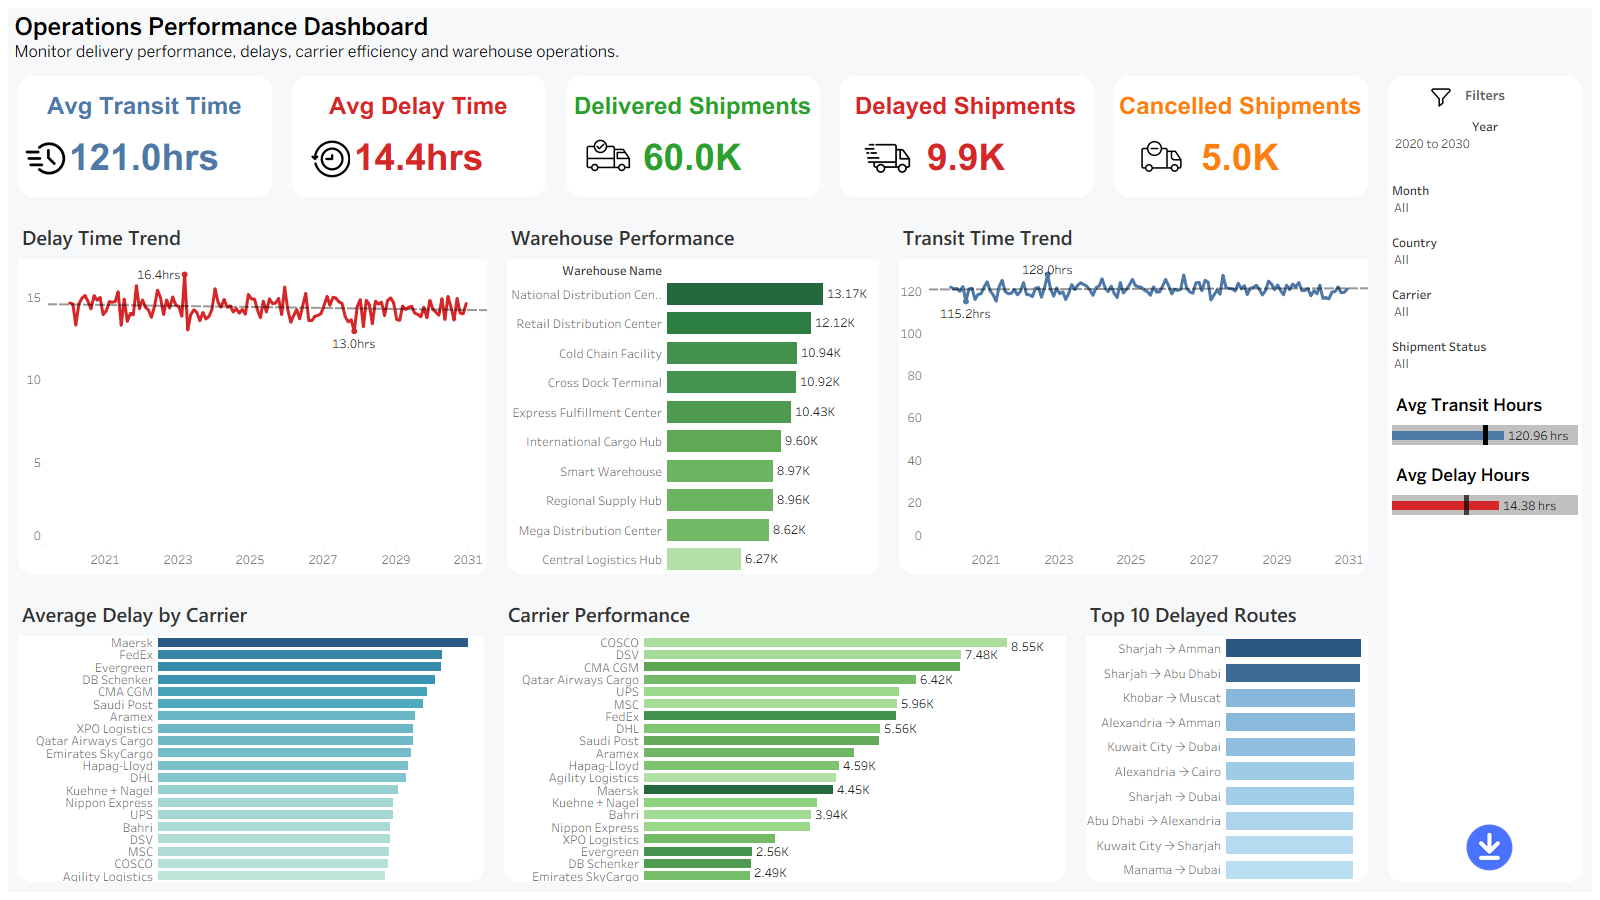

This screenshot's page, from the dashboard's own definition file:
{"tool":"tableau","page":{"name":"Operations Performance Dashboard","canvas":[1600,900],"ordinal":4},"visuals":[{"type":"title","box":[8,8,1584,56]},{"type":"worksheet","title":"KPI - Average Transit Time","mark":"Text","box":[8,64,274,141]},{"type":"worksheet","title":"KPI - Average Delay","mark":"Automatic","box":[282,64,274,141]},{"type":"worksheet","title":"KPI - Delivered Shipments","mark":"Automatic","box":[556,64,274,141]},{"type":"worksheet","title":"KPI - Delayed Shipments","mark":"Automatic","box":[830,64,274,141]},{"type":"worksheet","title":"KPI - Cancelled Shipments","mark":"Automatic","box":[1104,64,274,141]},{"type":"text","box":[1388,74,194,37]},{"type":"image","param":"Image/filter.png","box":[1427,81,27,23]},{"type":"filter","title":"Transit Time Trend","param":"[federated.0jvln5y0i2vktg16s0ugy1m90pce].[none:year_number:qk]","box":[1388,111,194,64]},{"type":"image","param":"Image/delivery-truck.png","box":[851,131,72,53]},{"type":"image","param":"Image/delete.png","box":[1131,133,61,46]},{"type":"image","param":"Image/delivery-truck(1).png","box":[577,134,64,48]},{"type":"image","param":"Image/rush.png","box":[23,136,44,44]},{"type":"image","param":"Image/delay.png","box":[309,139,43,39]},{"type":"filter","title":"Transit Time Trend","param":"[federated.0jvln5y0i2vktg16s0ugy1m90pce].[none:month_name:nk]","box":[1388,175,194,52]},{"type":"worksheet","title":"Delay Time Trend","mark":"Automatic","rows":["delay_hours"],"cols":["full_date"],"box":[8,205,489,377]},{"type":"worksheet","title":"Warehouse Performance","mark":"Automatic","rows":["warehouse_name"],"cols":["shipment_key"],"box":[497,205,392,377]},{"type":"worksheet","title":"Transit Time Trend","mark":"Automatic","rows":["transit_hours"],"cols":["full_date"],"box":[889,205,489,377]},{"type":"filter","title":"Transit Time Trend","param":"[federated.0jvln5y0i2vktg16s0ugy1m90pce].[none:country:nk]","box":[1388,227,194,52]},{"type":"filter","title":"Transit Time Trend","param":"[federated.0jvln5y0i2vktg16s0ugy1m90pce].[none:carrier_name:nk]","box":[1388,279,194,52]},{"type":"filter","title":"Transit Time Trend","param":"[federated.0jvln5y0i2vktg16s0ugy1m90pce].[none:shipment_status:nk]","box":[1388,331,194,52]},{"type":"worksheet","title":"Bullet - Transit Hours","mark":"Automatic","cols":["transit_hours"],"box":[1388,383,194,70]},{"type":"worksheet","title":"Bullet - Delay Hours","mark":"Bar","cols":["delay_hours"],"box":[1388,453,194,82]},{"type":"worksheet","title":"Average Delay by Carrier","mark":"Automatic","rows":["carrier_name"],"cols":["delay_hours"],"box":[8,582,486,309.8]},{"type":"worksheet","title":"Carrier Performance","mark":"Automatic","rows":["carrier_name"],"cols":["shipment_key"],"box":[494,582,582,309.8]},{"type":"worksheet","title":"Top 10 Delayed Routes","mark":"Automatic","rows":["Calculation_1349131463843841"],"cols":["delay_hours"],"box":[1076,582,302,309.8]},{"type":"dashboard-object","box":[1461,822,57,50]}]}

Visuals, with their boxes in screenshot pixels (x1, y1, x2, y2), scaled from the page's 1600x900 canvas onto the 1600x900 screenshot:
title: Rect(8, 8, 1592, 64)
"KPI - Average Transit Time" worksheet (Text marks): Rect(8, 64, 282, 205)
"KPI - Average Delay" worksheet: Rect(282, 64, 556, 205)
"KPI - Delivered Shipments" worksheet: Rect(556, 64, 830, 205)
"KPI - Delayed Shipments" worksheet: Rect(830, 64, 1104, 205)
"KPI - Cancelled Shipments" worksheet: Rect(1104, 64, 1378, 205)
text: Rect(1388, 74, 1582, 111)
image: Rect(1427, 81, 1454, 104)
"Transit Time Trend" filter: Rect(1388, 111, 1582, 175)
image: Rect(851, 131, 923, 184)
image: Rect(1131, 133, 1192, 179)
image: Rect(577, 134, 641, 182)
image: Rect(23, 136, 67, 180)
image: Rect(309, 139, 352, 178)
"Transit Time Trend" filter: Rect(1388, 175, 1582, 227)
"Delay Time Trend" worksheet: Rect(8, 205, 497, 582)
"Warehouse Performance" worksheet: Rect(497, 205, 889, 582)
"Transit Time Trend" worksheet: Rect(889, 205, 1378, 582)
"Transit Time Trend" filter: Rect(1388, 227, 1582, 279)
"Transit Time Trend" filter: Rect(1388, 279, 1582, 331)
"Transit Time Trend" filter: Rect(1388, 331, 1582, 383)
"Bullet - Transit Hours" worksheet: Rect(1388, 383, 1582, 453)
"Bullet - Delay Hours" worksheet (Bar marks): Rect(1388, 453, 1582, 535)
"Average Delay by Carrier" worksheet: Rect(8, 582, 494, 892)
"Carrier Performance" worksheet: Rect(494, 582, 1076, 892)
"Top 10 Delayed Routes" worksheet: Rect(1076, 582, 1378, 892)
dashboard-object: Rect(1461, 822, 1518, 872)
